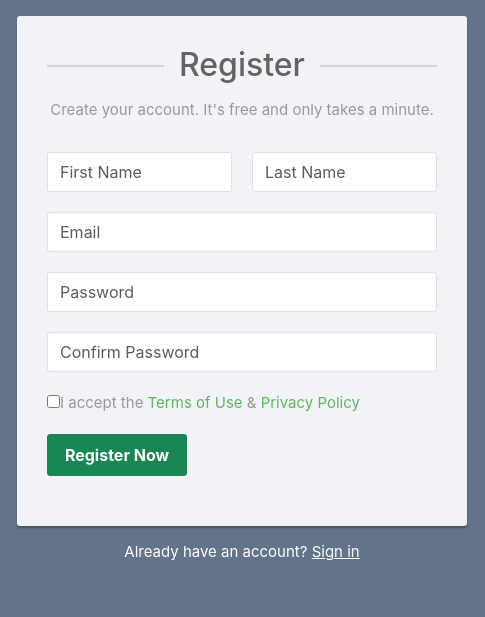
Test: RegisterPage component › renders registration form and Forbidden catch block
Type "John" into the field with placeholder "First Name" at (140,172), box [47, 152, 232, 192]
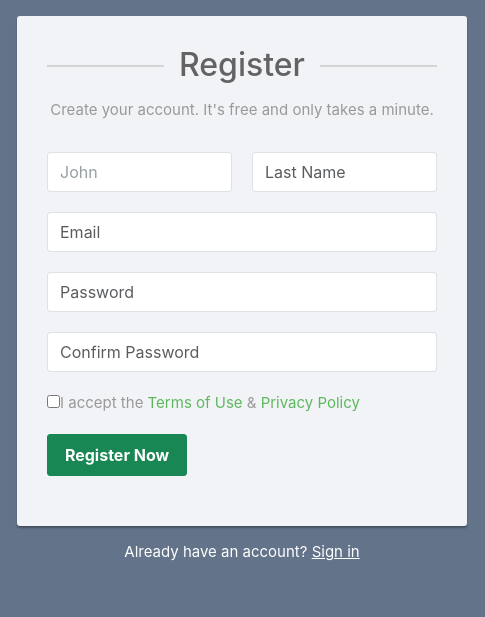
Type "Doe" into the field with placeholder "Last Name" at (344,172), box [252, 152, 437, 192]
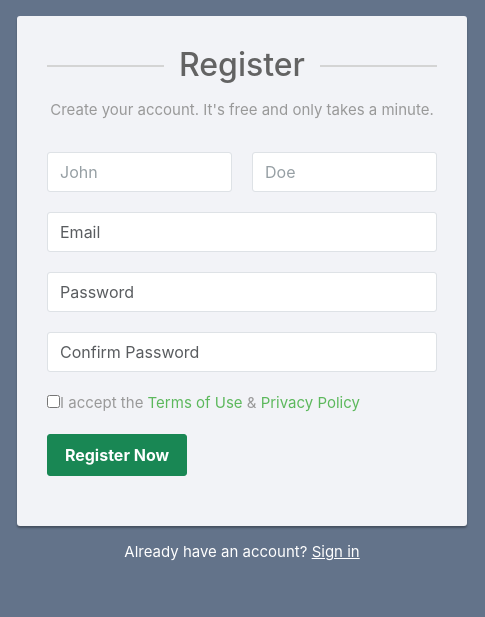
Type "test@example.com" into the field with placeholder "Email" at (242,232), box [47, 212, 437, 252]
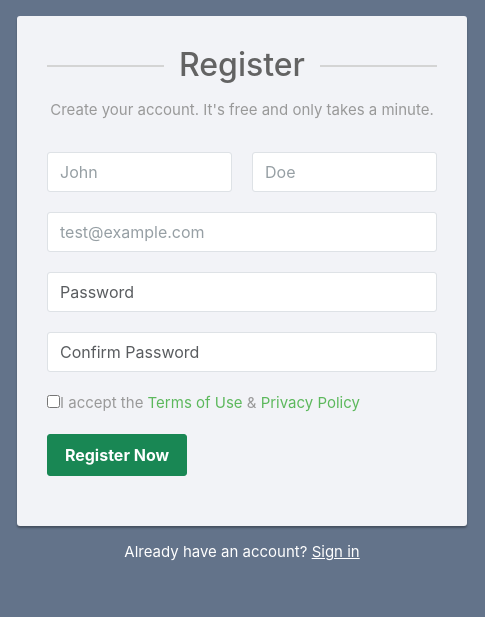
Type "testPassword" into the password field with placeholder "Password" at (242,292), box [47, 272, 437, 312]
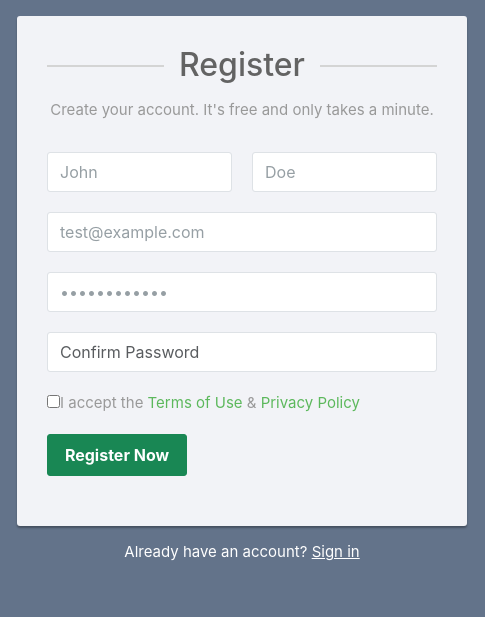
Type "testPassword" into the password field with placeholder "Confirm Password" at (242,352), box [47, 332, 437, 372]
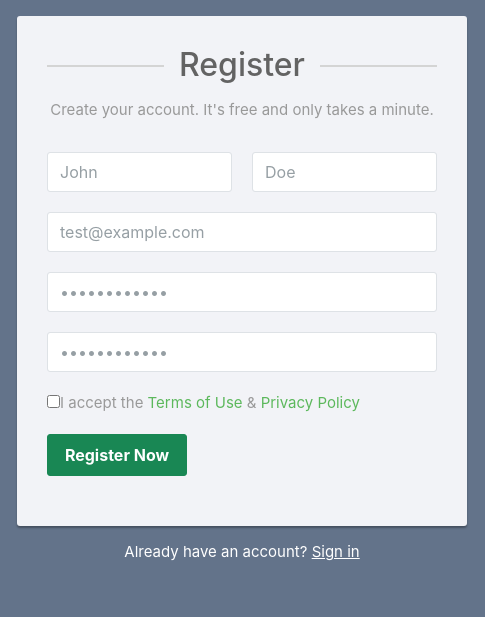
Submit the form from the button with test id "register", box [47, 434, 187, 476]
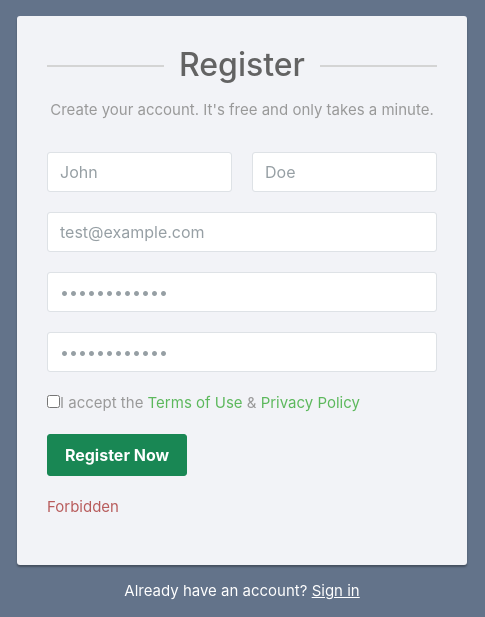
Check: the text "Forbidden" is shown, box [47, 497, 119, 516]
